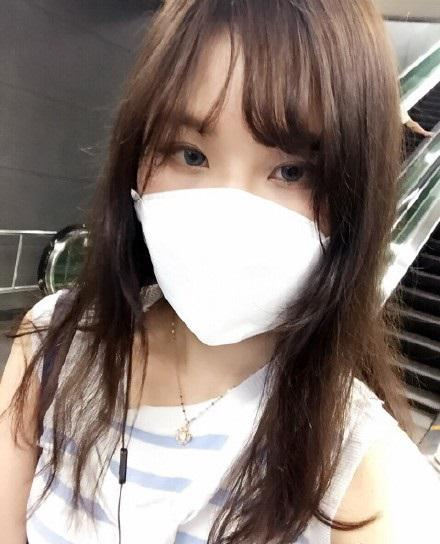OK: (140, 107, 372, 339)
